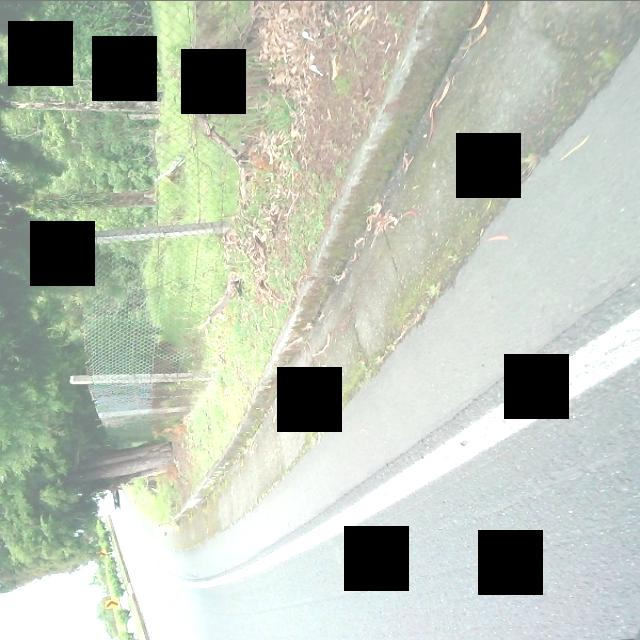DITCH: (118, 2, 638, 551)
